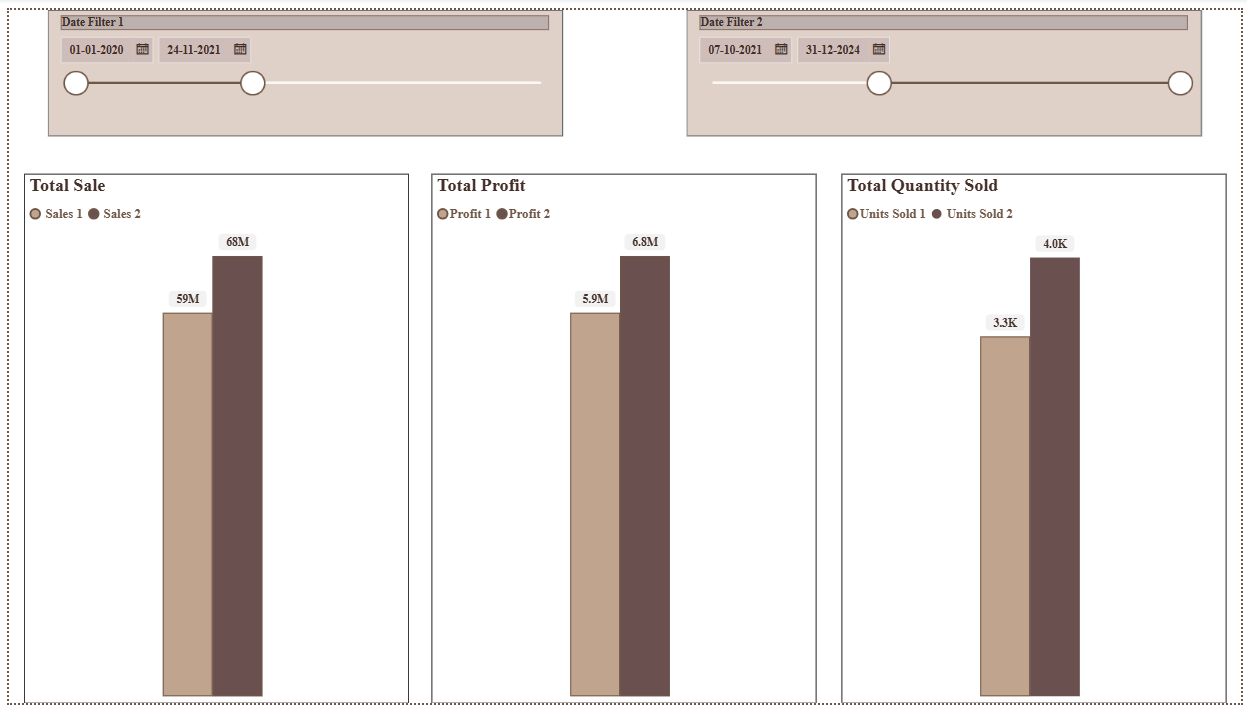

Layout of this report page (visuals, bound fields, positions):
{"tool":"powerbi","page":{"name":"Approach 1 -Compare Values between any two period","canvas":[1280,720],"ordinal":2},"visuals":[{"type":"slicer","fields":{"Values":["Date Table1.Date"]},"box":[40.7,0,534.9,131.4],"z":0},{"type":"slicer","fields":{"Values":["Date Table 2.Date"]},"box":[703.5,0,534.9,131.4],"z":1000},{"type":"clusteredColumnChart","title":"Total Sale","fields":{"Y":["Sum(Fact Table.Net Sales)","Date Table 2.Sum OF Net Sales"]},"box":[15.1,169.8,400,550],"z":2000},{"type":"clusteredColumnChart","title":"Total Profit","fields":{"Y":["Sum(Fact Table.Profit)","Measure Table.Sum Of Profit"]},"box":[439.5,169.8,400,550],"z":3000},{"type":"clusteredColumnChart","title":"Total Quantity Sold","fields":{"Y":["Sum(Fact Table.Units Sold)","Measure Table.Sum of Units Sold"]},"box":[865.1,169.8,400,550],"z":4000}]}

Visuals, with their boxes in screenshot pixels (x1, y1, x2, y2), scaled from the page's 1280x720 canvas onto the 1247x709 screenshot:
slicer - Date Table1.Date: bbox=[40, 0, 561, 129]
slicer - Date Table 2.Date: bbox=[685, 0, 1206, 129]
"Total Sale" clusteredColumnChart: bbox=[15, 167, 404, 708]
"Total Profit" clusteredColumnChart: bbox=[428, 167, 818, 708]
"Total Quantity Sold" clusteredColumnChart: bbox=[843, 167, 1232, 708]
